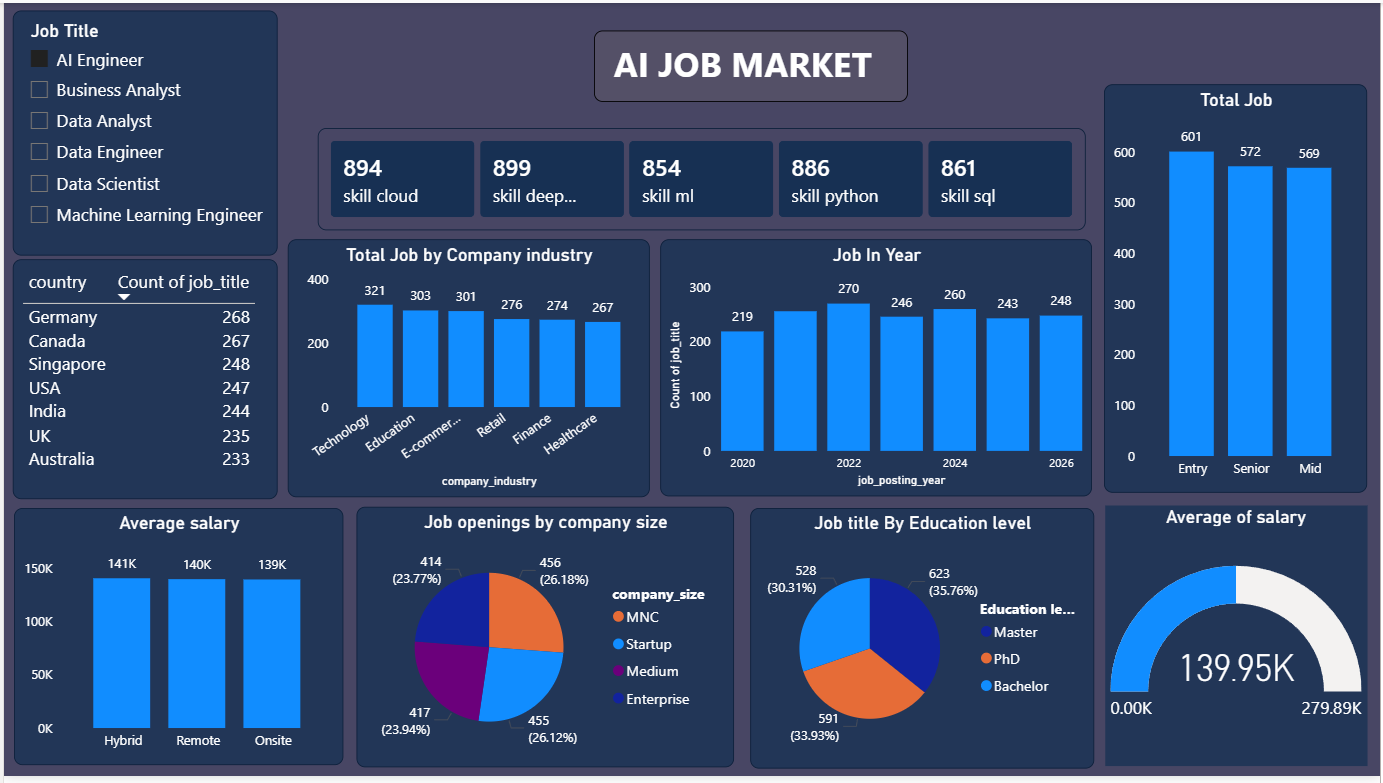

This screenshot's page, from the dashboard's own definition file:
{"tool":"powerbi","page":{"name":"Page 1","canvas":[1280,720],"ordinal":0},"visuals":[{"type":"slicer","fields":{"Values":["AI Job Market Dataset.job_title"]},"box":[8.4,7.2,246.1,228],"z":0},{"type":"gauge","fields":{"Y":["Avg(AI Job Market Dataset.salary)"]},"box":[1024.3,466.9,243.7,242.5],"z":1000},{"type":"columnChart","title":"Job In Year","fields":{"Category":["AI Job Market Dataset.job_posting_year"],"Y":["CountNonNull(AI Job Market Dataset.job_title)"]},"box":[610.5,219.6,401.7,238.9],"z":2000},{"type":"tableEx","title":"Job Title by Country","fields":{"Values":["AI Job Market Dataset.country","CountNonNull(AI Job Market Dataset.job_title)"]},"box":[8.4,238.9,246.1,223.2],"z":3000},{"type":"columnChart","title":"Total Job by Company industry","fields":{"Category":["AI Job Market Dataset.company_industry"],"Y":["CountNonNull(AI Job Market Dataset.job_title)"]},"box":[264.2,219.6,336.6,240.1],"z":4000},{"type":"columnChart","title":"Total Job","fields":{"Category":["AI Job Market Dataset.experience_level"],"Y":["CountNonNull(AI Job Market Dataset.job_title)"]},"box":[1023.1,76,244.9,380],"z":5000},{"type":"pieChart","title":"Job title By Education level","fields":{"Y":["CountNonNull(AI Job Market Dataset.job_title)"],"Category":["AI Job Market Dataset.education_level"]},"box":[693.7,469.3,319.7,242.5],"z":6000},{"type":"pieChart","title":"Job openings by company size","fields":{"Y":["CountNonNull(AI Job Market Dataset.job_openings)"],"Category":["AI Job Market Dataset.company_size"]},"box":[328.2,468.1,351.1,242.5],"z":7000},{"type":"columnChart","title":"Average salary ","fields":{"Y":["Avg(AI Job Market Dataset.salary)"],"Category":["AI Job Market Dataset.remote_type"]},"box":[9.7,469.3,306.4,238.9],"z":8000},{"type":"cardVisual","fields":{"Data":["AI Job Market Dataset.count cloud skill","AI Job Market Dataset.skill deep learning","AI Job Market Dataset.skill ml","AI Job Market Dataset.skill python","AI Job Market Dataset.skill sql"]},"box":[292,115.8,714.2,95.3],"z":9000},{"type":"textbox","box":[547.7,9.3,291.9,66.3],"z":10000}]}

Visuals, with their boxes in screenshot pixels (x1, y1, x2, y2), scaled from the page's 1280x720 canvas onto the 1383x783 screenshot:
slicer - AI Job Market Dataset.job_title: [x1=9, y1=8, x2=275, y2=256]
gauge - Avg(AI Job Market Dataset.salary): [x1=1107, y1=508, x2=1370, y2=771]
"Job In Year" columnChart: [x1=660, y1=239, x2=1094, y2=499]
"Job Title by Country" tableEx: [x1=9, y1=260, x2=275, y2=503]
"Total Job by Company industry" columnChart: [x1=285, y1=239, x2=649, y2=500]
"Total Job" columnChart: [x1=1105, y1=83, x2=1370, y2=496]
"Job title By Education level" pieChart: [x1=750, y1=510, x2=1095, y2=774]
"Job openings by company size" pieChart: [x1=355, y1=509, x2=734, y2=773]
"Average salary " columnChart: [x1=10, y1=510, x2=342, y2=770]
cardVisual - AI Job Market Dataset.count cloud skill x AI Job Market Dataset.skill deep learning: [x1=315, y1=126, x2=1087, y2=230]
textbox: [x1=592, y1=10, x2=907, y2=82]
